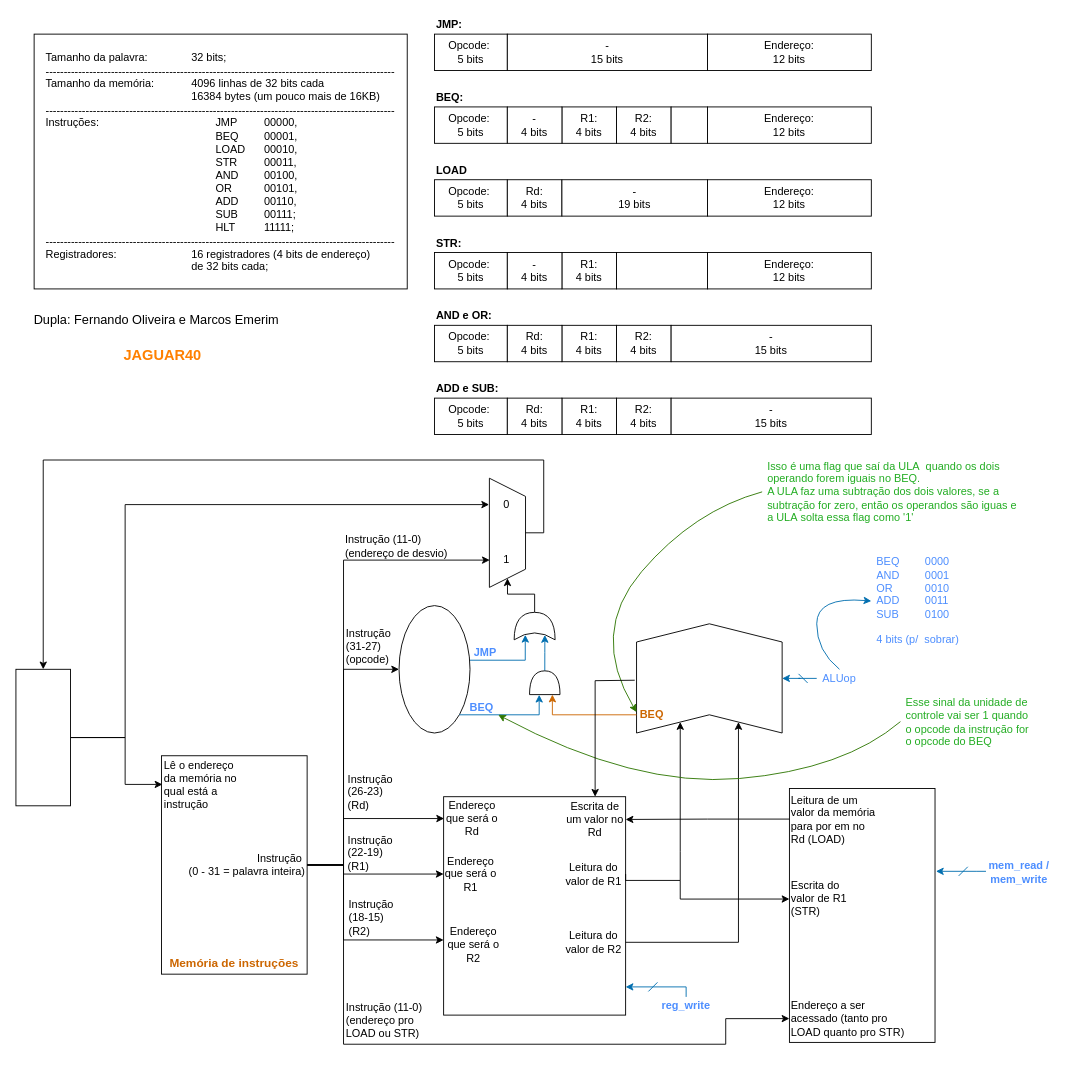
Image size: 1068x1067. Some labels were removed from this diagram. Each missing label, with the box of its shape:
- 3 bits: (670, 106, 708, 143)
- 7 bits: (616, 252, 708, 289)
Memória de dados: (789, 788, 935, 1042)
PC: (15, 668, 71, 806)
U1: Mux: (488, 477, 526, 587)
U2: ULA: (636, 623, 782, 733)
U3: Banco de registradores: (443, 796, 626, 1015)
Unidade de controle: (398, 605, 470, 733)
